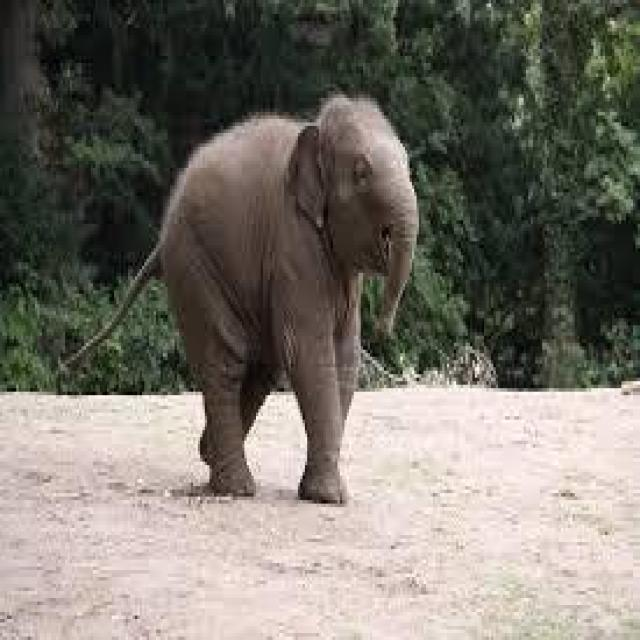Elephant: (147, 87, 426, 501)
